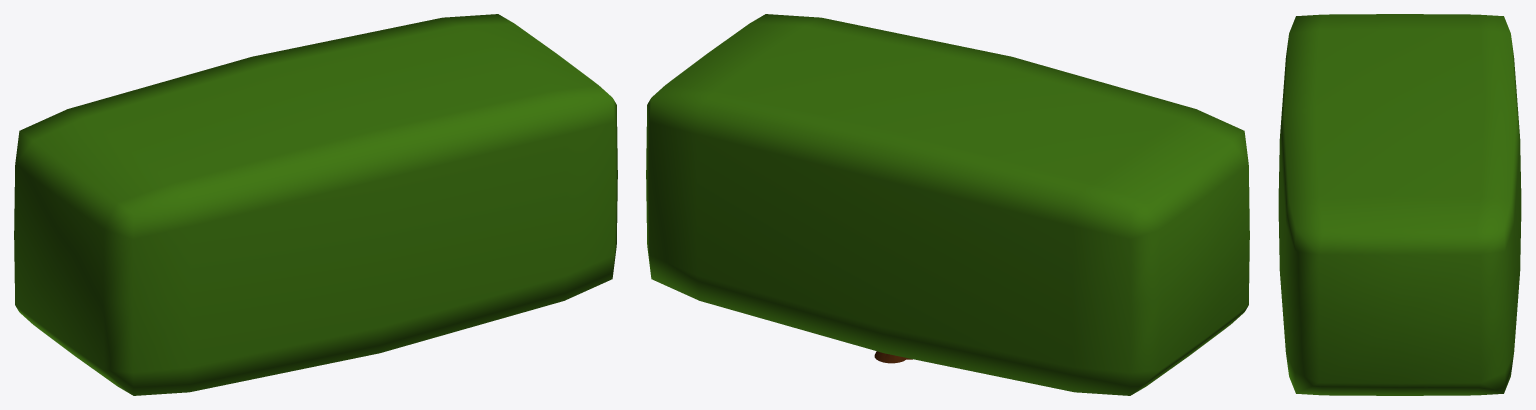
File: Enviro_Shrub_Trimmed_Untextured.fbx
3 views of the same model, side by side, from view 1: azimuth 30°, elevation 25°; view 2: azimuth 150°, elevation 25°; view 3: azimuth 270°, elevation 25° (orthographic). The views are drawn at different scales.
Parts seen in each view (by area): view 1: Leaves; view 2: Leaves; view 3: Leaves.
Boxes of the visible parts, x1,y1,x2,y2 form: Leaves: [14, 14, 617, 395]; Leaves: [646, 14, 1249, 395]; Leaves: [1278, 14, 1521, 395].
Size of the model in its own units: 4.37 by 1.99 by 1.95.
